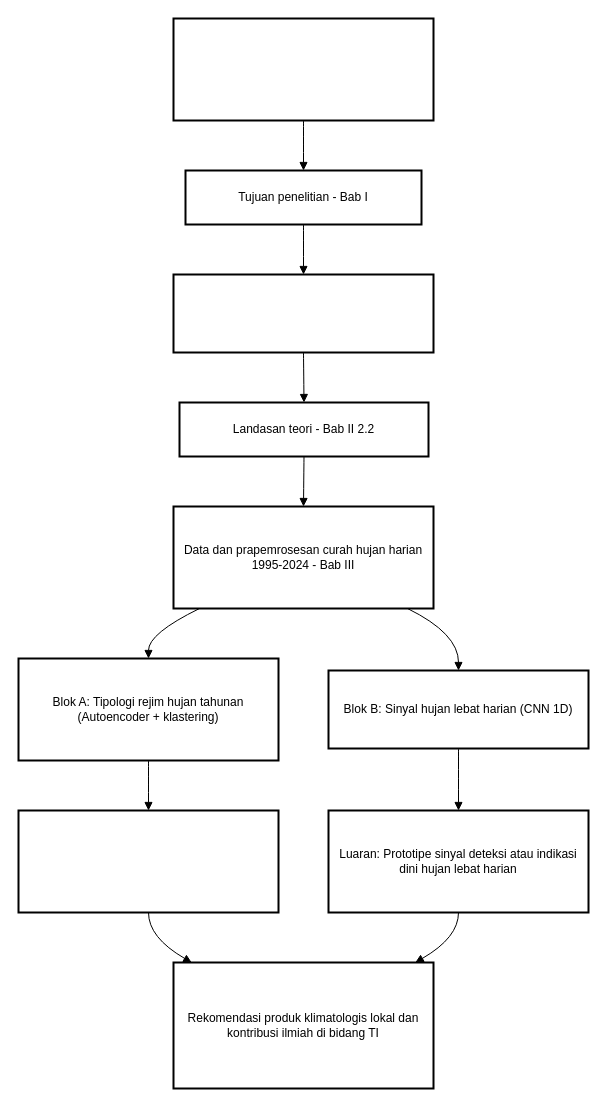
This 606x1106 diagram has some shape labels left out. Each missing label, with the centre of its shape:
"Luaran: Tipologi rejim hujan tahunan yang berkualitas dan stabil" belongs at pixel 148 861.
"Permasalahan dan kebutuhan layanan klimatologis lokal - Bab I" belongs at pixel 303 69.
"Tinjauan pustaka dan celah penelitian - Bab II 2.1" belongs at pixel 303 313.
